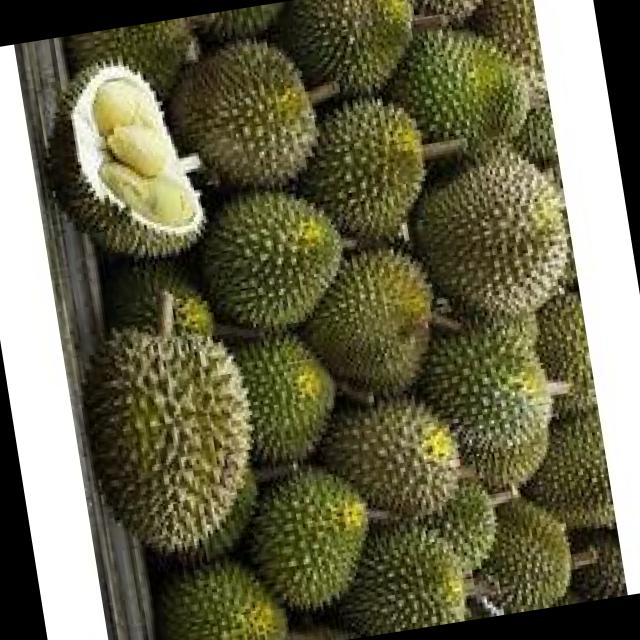fruit: (59, 270, 303, 584), (142, 11, 348, 225), (162, 158, 373, 362), (386, 136, 584, 342), (270, 220, 466, 420), (211, 437, 400, 640), (266, 69, 458, 268), (361, 0, 554, 182), (308, 483, 509, 640), (255, 0, 446, 122), (447, 480, 590, 621), (130, 533, 306, 640), (43, 13, 222, 110)
